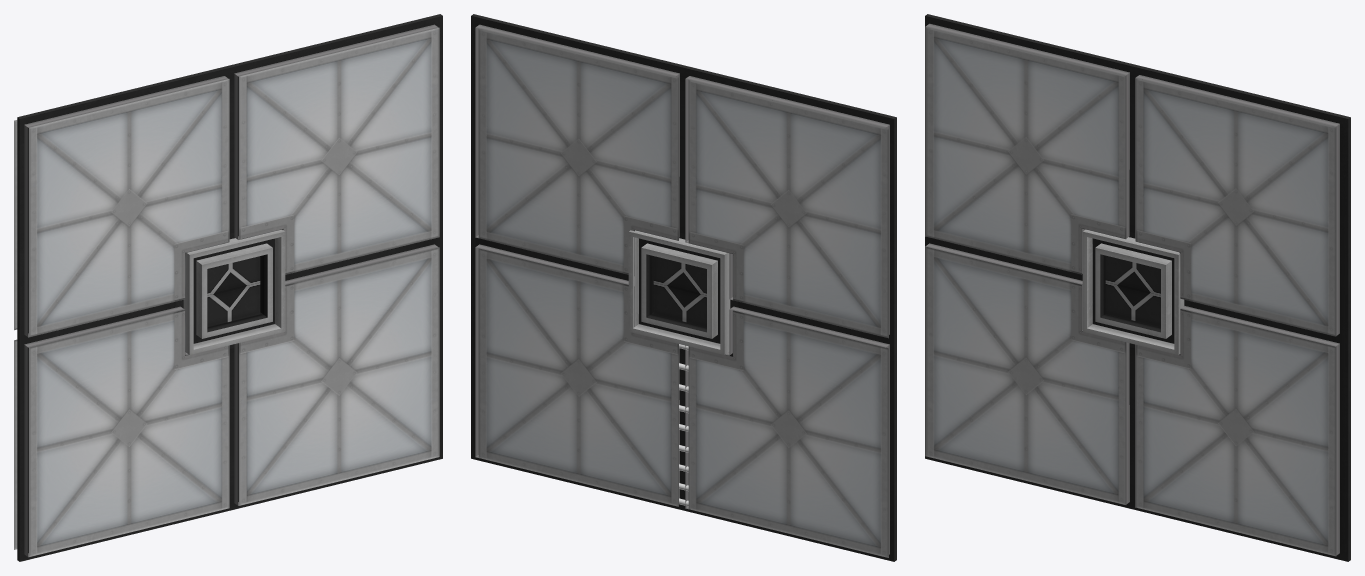
File: CubeTile_(Add Ladder).fbx
3 views of the same model, side by side, from view 1: azimuth 30°, elevation 25°; view 2: azimuth 150°, elevation 25°; view 3: azimuth 330°, elevation 25° (orthographic).
Visible parts, largest first — view 1: Plane003, Box001, Object004, Box003, Plane004, Box002; view 2: Plane004, Box001, Object003, Box003, Box002; view 3: Plane003, Box001, Object004, Box003, Box002.
Part boxes in pixels (x1,y1,x2,y2): Plane003: [29, 27, 439, 556]; Box001: [17, 14, 442, 561]; Object004: [24, 24, 438, 557]; Box003: [207, 283, 260, 326]; Plane004: [14, 120, 17, 549]; Box002: [207, 256, 260, 295]; Plane004: [478, 28, 888, 557]; Box001: [471, 14, 896, 561]; Object003: [475, 24, 889, 554]; Box003: [653, 282, 706, 327]; Box002: [653, 256, 706, 295]; Plane003: [926, 27, 1336, 556]; Box001: [925, 14, 1350, 561]; Object004: [925, 23, 1339, 555]; Box003: [1105, 282, 1160, 327]; Box002: [1105, 255, 1160, 295].
Bounding box in the file's own units: 348 × 348 × 20.91.
2 materials, 2 textured.
